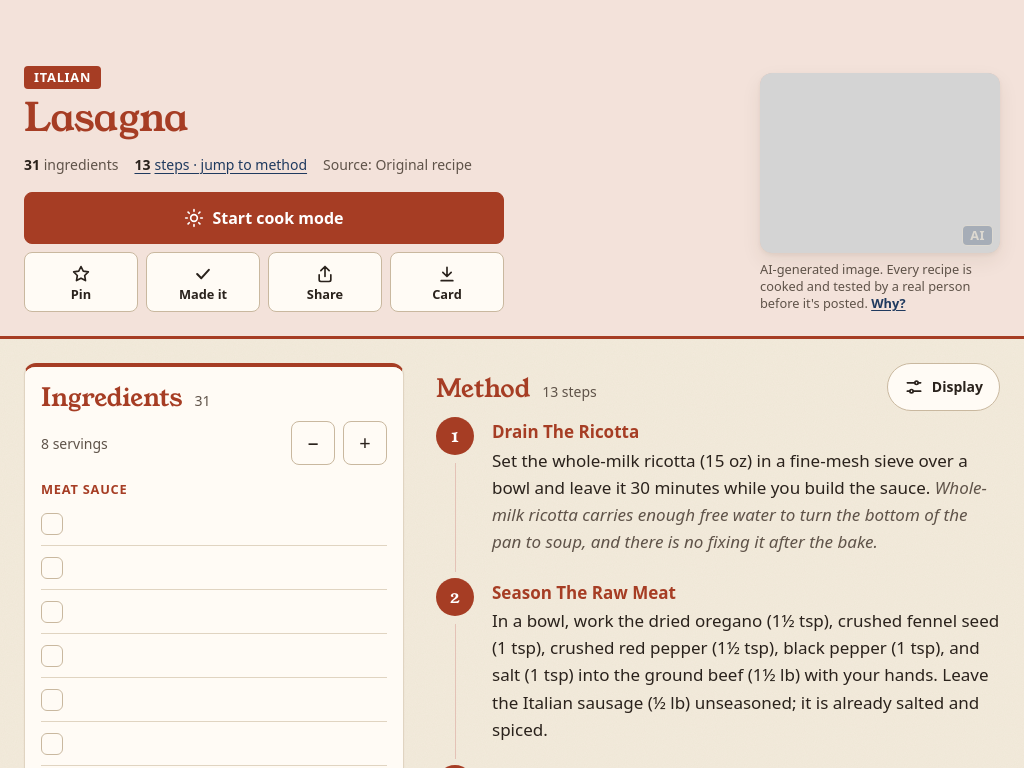
Test: RecipeView actions › labels Pin "Pinned" while it is on
Step 1. Click the button "Pin" → (81, 282), box [24,252,138,312]
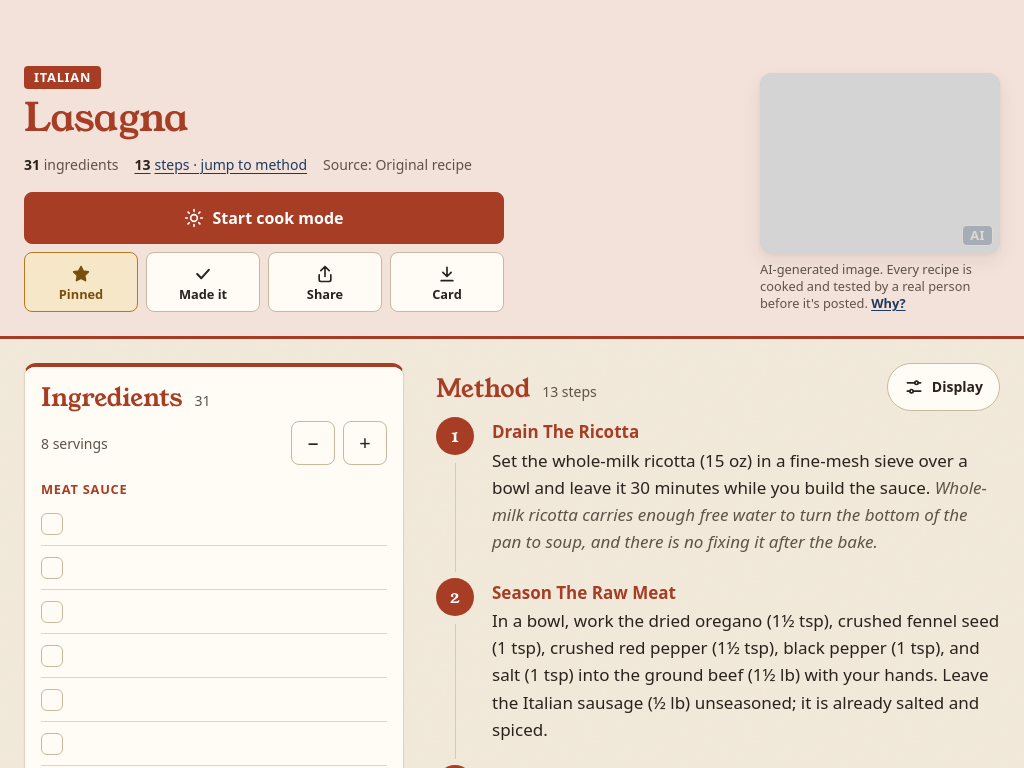
Result: the button "Pinned" is shown at [24,252,138,312]
